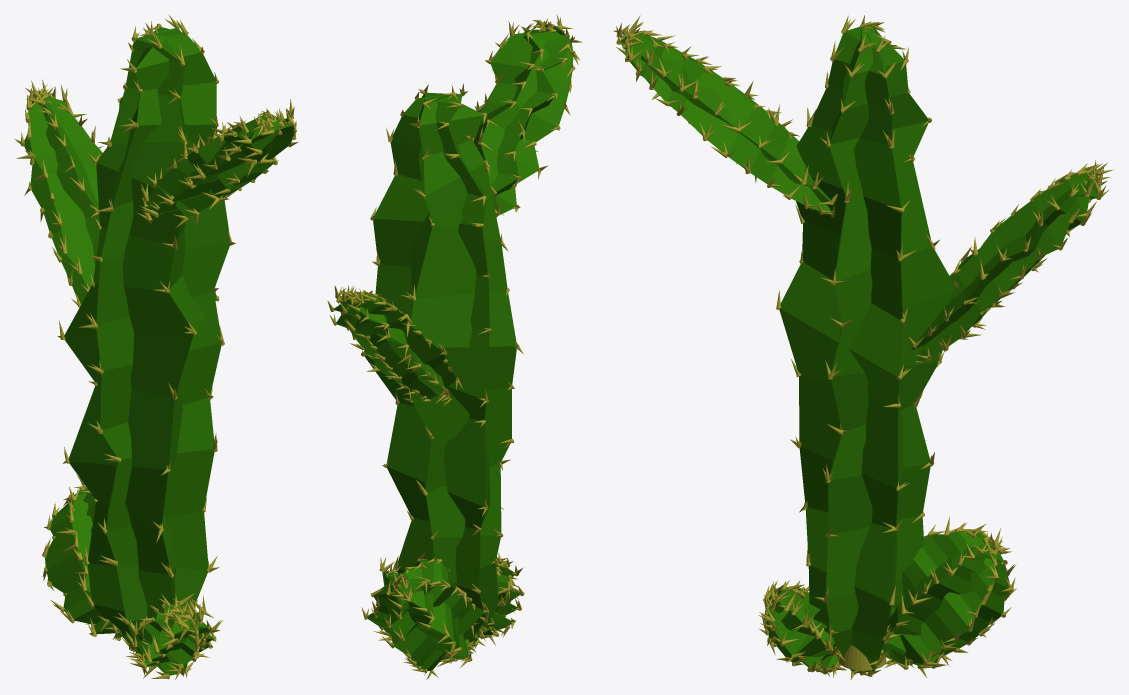
Rendered from reina de la noche sudamericana.glb.
3 renders of one model, left to right at view 1: azimuth 30°, elevation 25°; view 2: azimuth 150°, elevation 25°; view 3: azimuth 270°, elevation 25°, orthographic. The views are drawn at different scales.
Visible parts, largest first — view 1: Sphere.001; view 2: Sphere.001; view 3: Sphere.001.
Boxes of the visible parts, <box> form: Sphere.001: <box>24,27,294,675</box>; Sphere.001: <box>334,22,573,670</box>; Sphere.001: <box>620,25,1097,673</box>.
Bounding box in the file's own units: 2.04 × 7.71 × 5.28.
